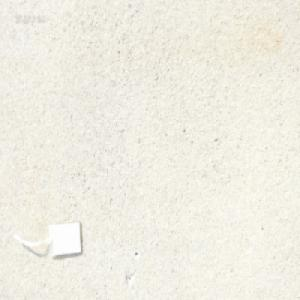LuggageTag: (12, 219, 84, 261)
